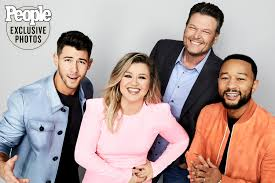with_mask: (219, 63, 255, 109), (184, 12, 219, 56), (57, 43, 88, 88), (120, 62, 149, 100)
